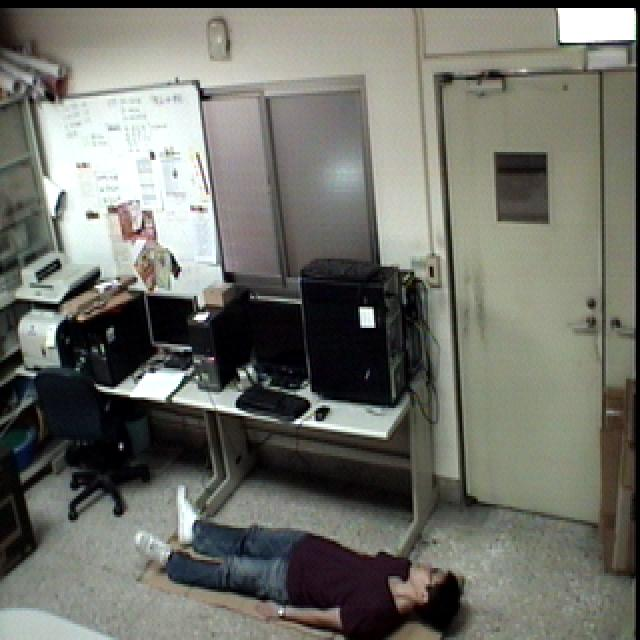lie: (131, 473, 468, 640)
